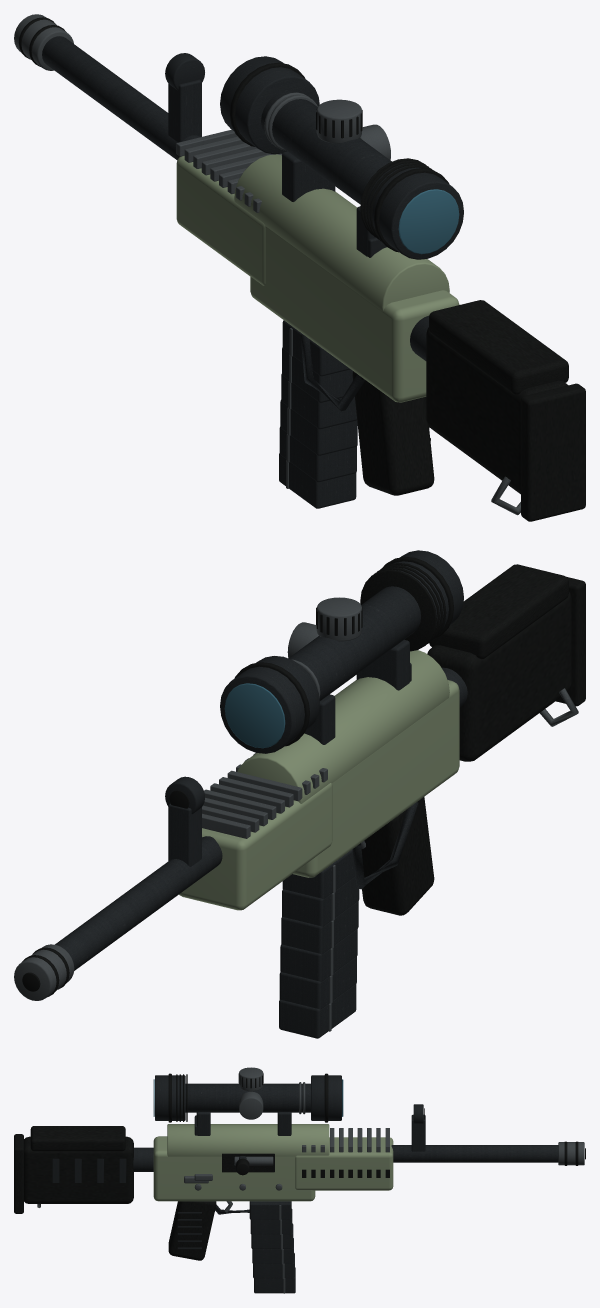
Rendered from awp.glb.
The picture shows the model from 3 angles, top to bottom: view 1: azimuth 30°, elevation 25°; view 2: azimuth 150°, elevation 25°; view 3: azimuth 270°, elevation 25°; orthographic projection. The views are drawn at different scales.
Parts seen in each view (by area): view 1: weapon_Weapon finish / Olive rifle finish, weapon_Parkerized steel, weapon_Polymer, weapon_Weapon finish / Polymer, magazine_Parkerized steel, weapon_Machined edges, weapon_Coated scope glass; view 2: weapon_Weapon finish / Olive rifle finish, weapon_Parkerized steel, weapon_Weapon finish / Polymer, weapon_Polymer, magazine_Parkerized steel, weapon_Machined edges, weapon_Coated scope glass, magazine_Machined edges; view 3: weapon_Weapon finish / Olive rifle finish, weapon_Parkerized steel, weapon_Weapon finish / Polymer, weapon_Polymer, magazine_Parkerized steel, weapon_Machined edges.
Part boxes in pixels (bbox=[...]): weapon_Weapon finish / Olive rifle finish: bbox=[176, 154, 459, 402]; weapon_Parkerized steel: bbox=[42, 36, 463, 440]; weapon_Polymer: bbox=[18, 17, 585, 521]; weapon_Weapon finish / Polymer: bbox=[426, 300, 568, 494]; magazine_Parkerized steel: bbox=[279, 320, 357, 508]; weapon_Machined edges: bbox=[14, 14, 520, 515]; weapon_Coated scope glass: bbox=[398, 189, 459, 254]; weapon_Weapon finish / Olive rifle finish: bbox=[179, 650, 459, 910]; weapon_Parkerized steel: bbox=[55, 550, 467, 970]; weapon_Weapon finish / Polymer: bbox=[427, 564, 571, 761]; weapon_Polymer: bbox=[22, 556, 585, 996]; magazine_Parkerized steel: bbox=[279, 849, 359, 1038]; weapon_Machined edges: bbox=[14, 597, 578, 1000]; weapon_Coated scope glass: bbox=[224, 683, 285, 748]; magazine_Machined edges: bbox=[328, 865, 335, 1031]; weapon_Weapon finish / Olive rifle finish: bbox=[153, 1124, 393, 1201]; weapon_Parkerized steel: bbox=[52, 1075, 558, 1249]; weapon_Weapon finish / Polymer: bbox=[24, 1126, 133, 1203]; weapon_Polymer: bbox=[14, 1073, 585, 1260]; magazine_Parkerized steel: bbox=[249, 1201, 295, 1293]; weapon_Machined edges: bbox=[37, 1067, 584, 1207].
Size of the model in its own units: 0.1329 by 0.4275 by 1.03.
Materials: 6 (4 with a texture image).
